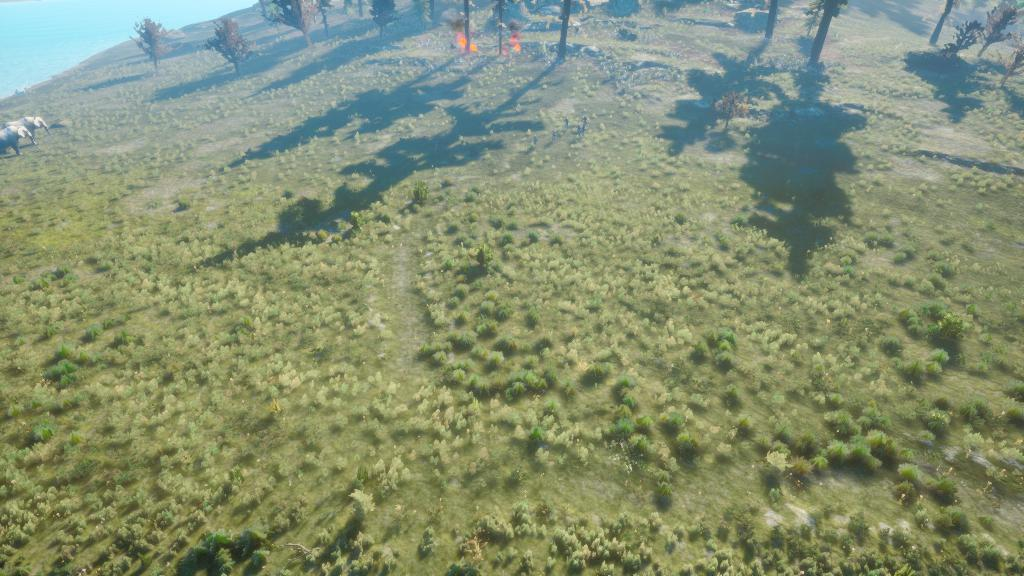Fire: (449, 29, 484, 59), (491, 32, 523, 57)
elephant: (3, 112, 52, 144), (0, 126, 41, 158)
human: (563, 115, 571, 130), (581, 114, 590, 127), (532, 134, 540, 148), (580, 123, 587, 137), (551, 126, 558, 140), (576, 122, 582, 135)
zebra: (12, 83, 34, 100)
